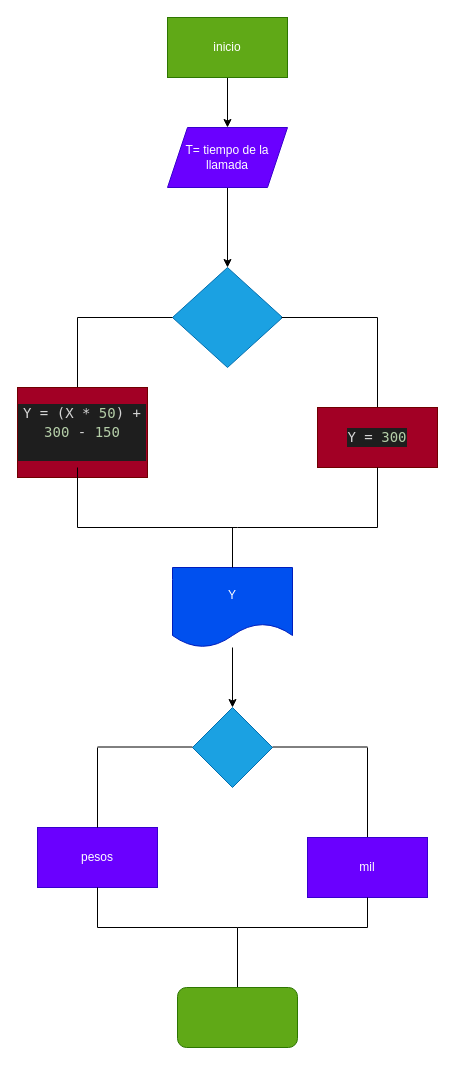
The diagram is 455 pixels wide and 1065 high, and some of its shapes have lost their labels. The box of each missing label's shape, as (x1, y1, x2, y2) in pixels:
c=t>3m: (172, 266, 282, 368)
fin: (176, 986, 298, 1048)
Y<999: (192, 706, 272, 788)
